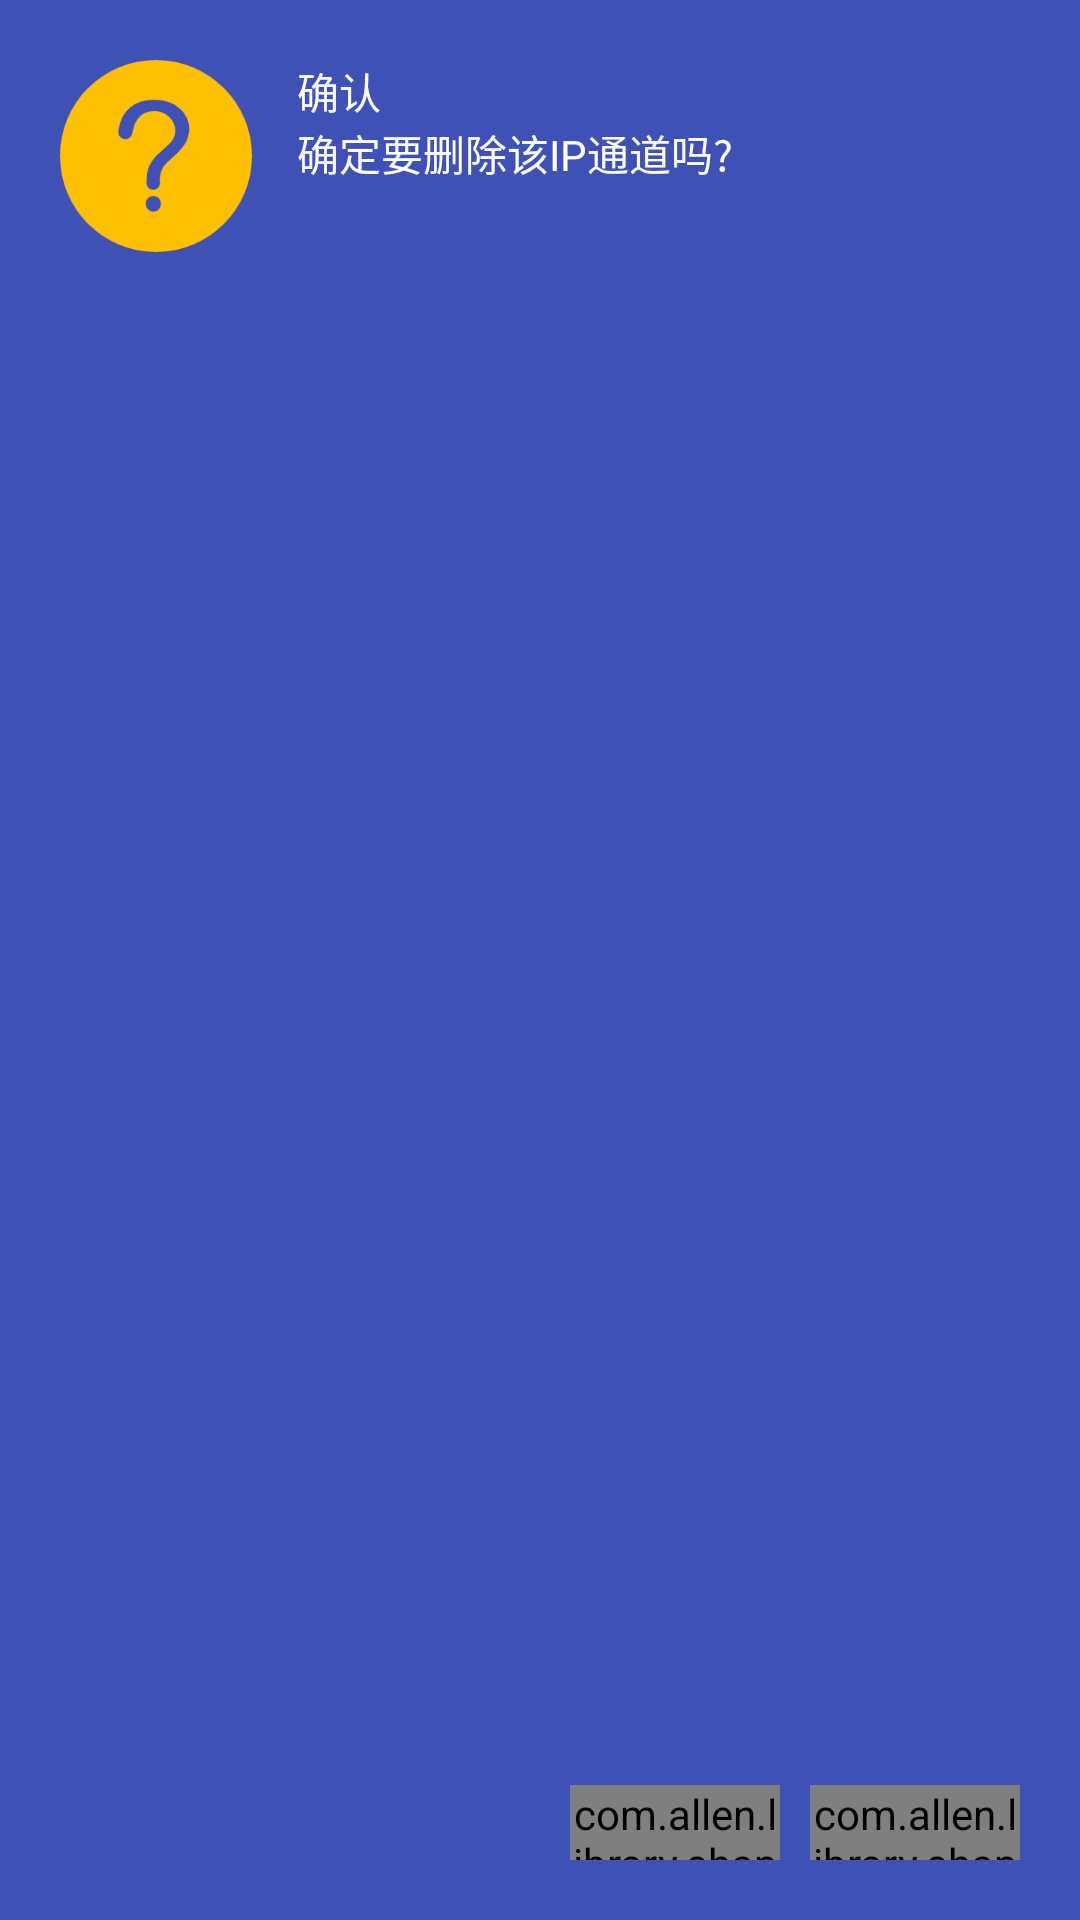

Icons on this 1080px×1920px Android screen, each with its box as bbox=(x1, y1, x2, y2):
help: bbox=(60, 60, 252, 252)
